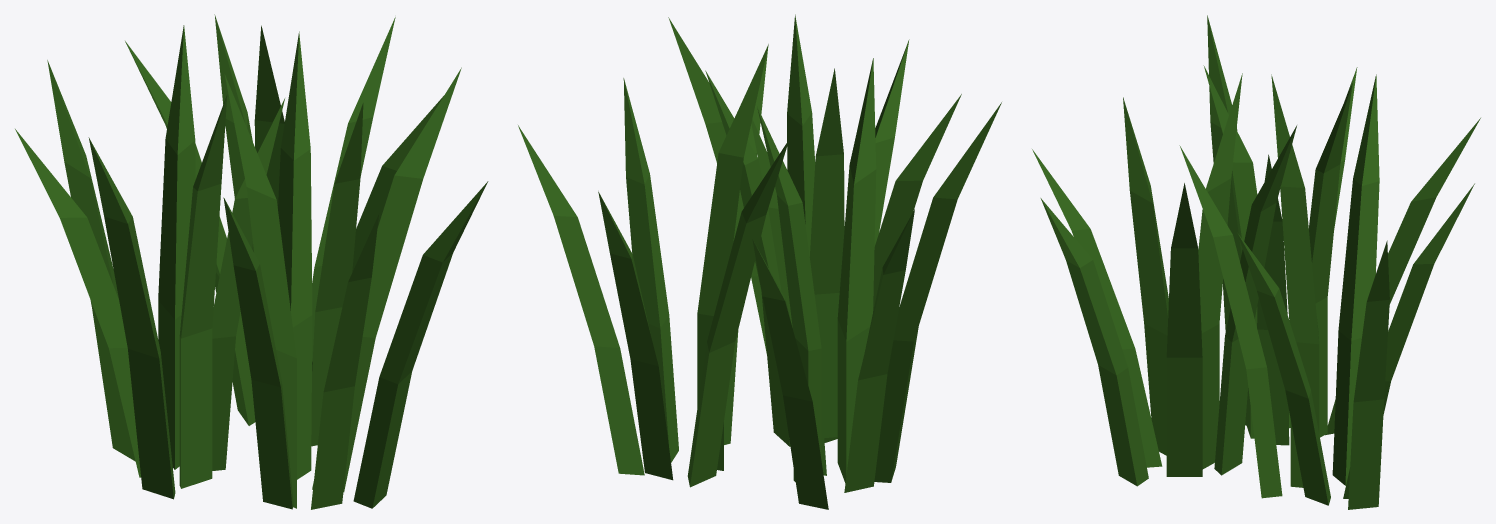
Rendered from Трава.fbx.
3 renders of one model, left to right at view 1: azimuth 30°, elevation 25°; view 2: azimuth 150°, elevation 25°; view 3: azimuth 270°, elevation 25°, orthographic. The views are drawn at different scales.
Parts seen in each view (by area): view 1: Grass_LOD_0; view 2: Grass_LOD_0; view 3: Grass_LOD_0.
Part boxes in pixels (x1,y1,x2,y2): Grass_LOD_0: [15, 14, 488, 509]; Grass_LOD_0: [518, 14, 1001, 509]; Grass_LOD_0: [1032, 15, 1480, 509].
Bounding box in the file's own units: 3671 × 3873 × 3877.
